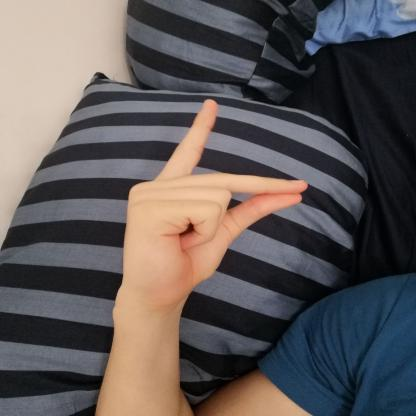TAA: (102, 88, 322, 309)
